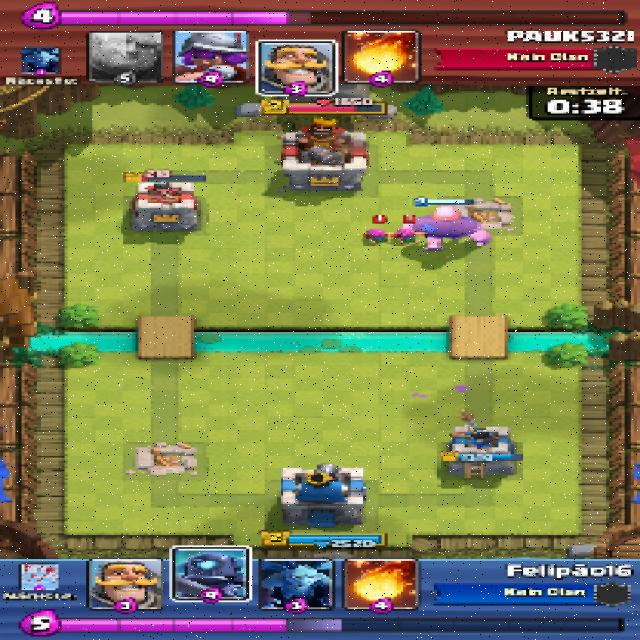Enemy-Archer: (361, 228, 392, 245), (389, 226, 417, 243)
Player-Giant: (404, 206, 494, 249)
